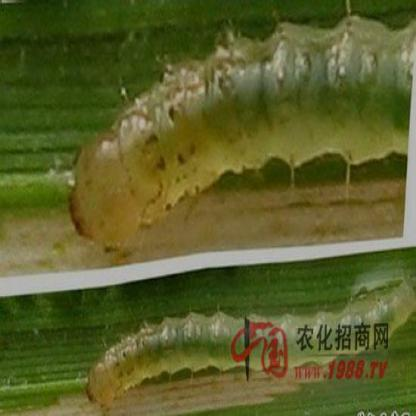leaf-folder: (65, 7, 416, 257), (74, 306, 232, 414)
